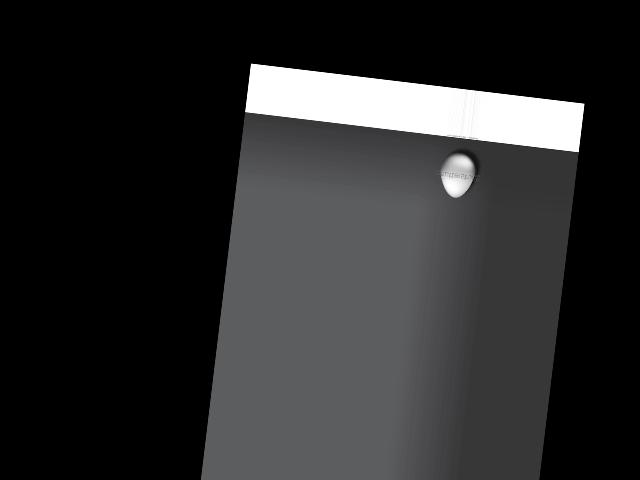egg: (437, 151, 477, 200)
